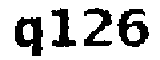1: (49, 6, 78, 50)
2: (81, 6, 114, 51)
6: (115, 6, 150, 51)
q: (11, 13, 44, 60)
